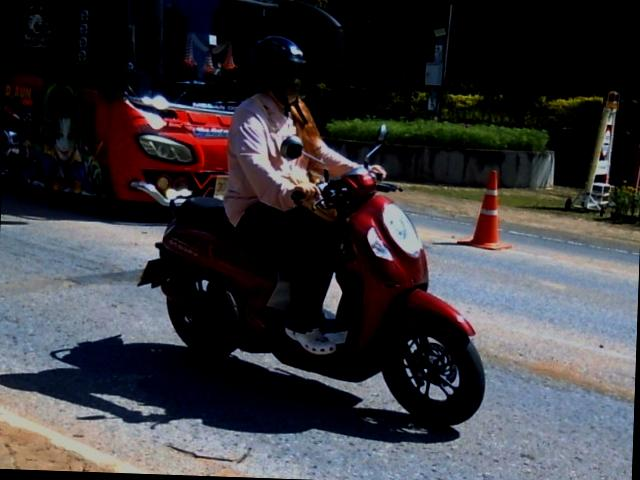helmet: (250, 34, 308, 104)
motor: (138, 125, 484, 425)
person: (223, 36, 359, 353)
